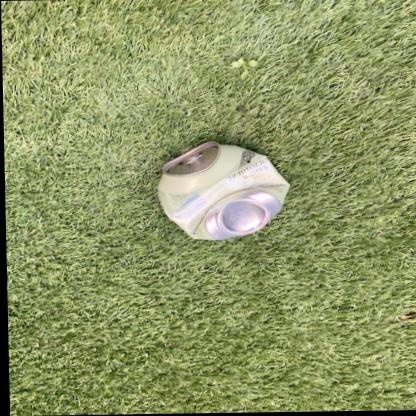trash: (158, 142, 288, 239)
